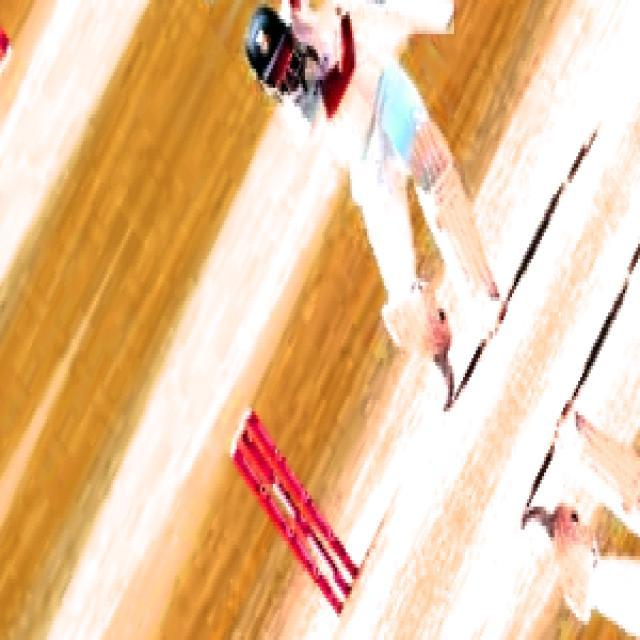bat: (285, 0, 458, 35)
